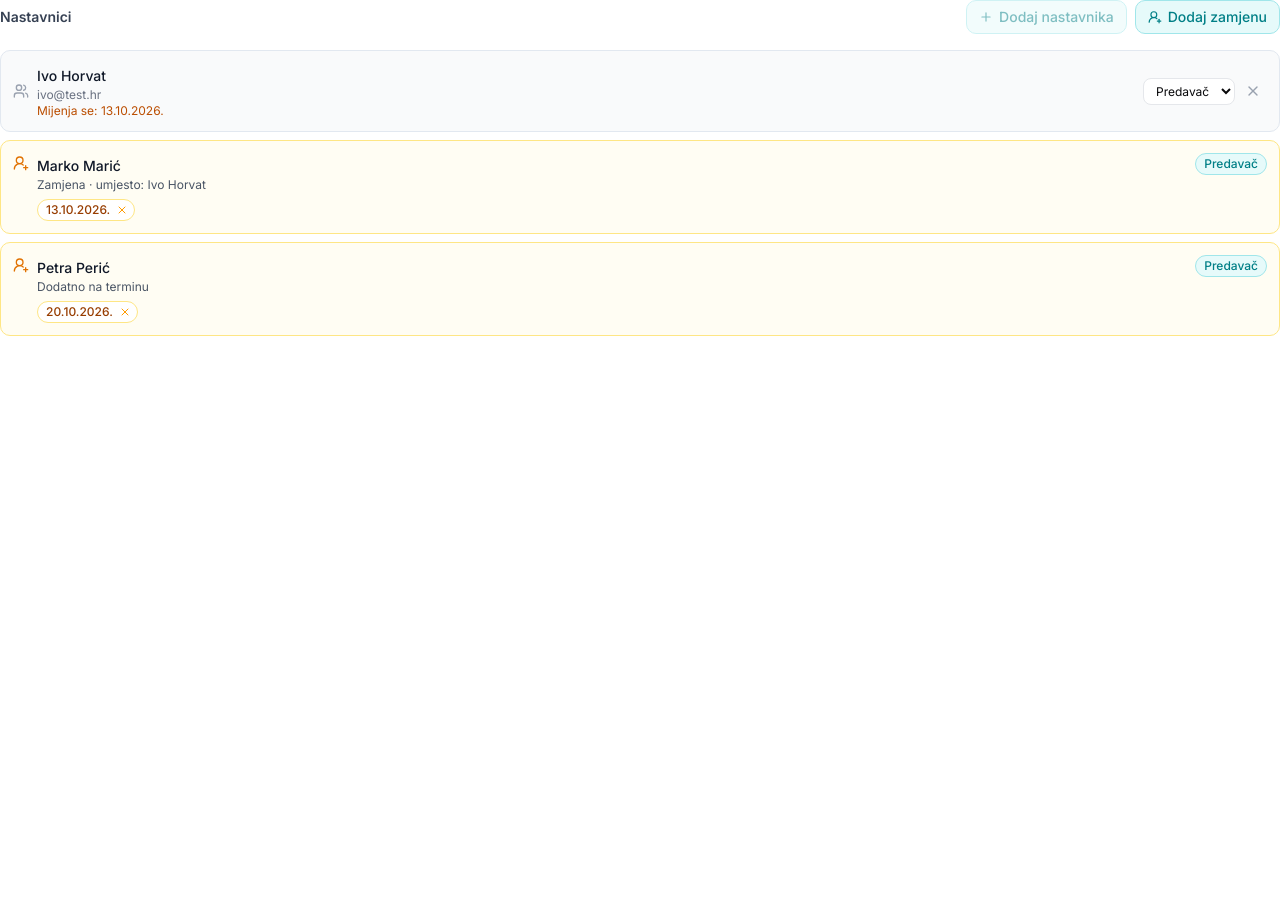
it: GroupTeachersPanel — Dodaj zamjenu termini › disables a date either person already has a change on, and names why
The width and height of the screenshot is (1280, 900).
Click the button "Dodaj zamjenu" at (1207, 17), box [1135,0,1279,34]
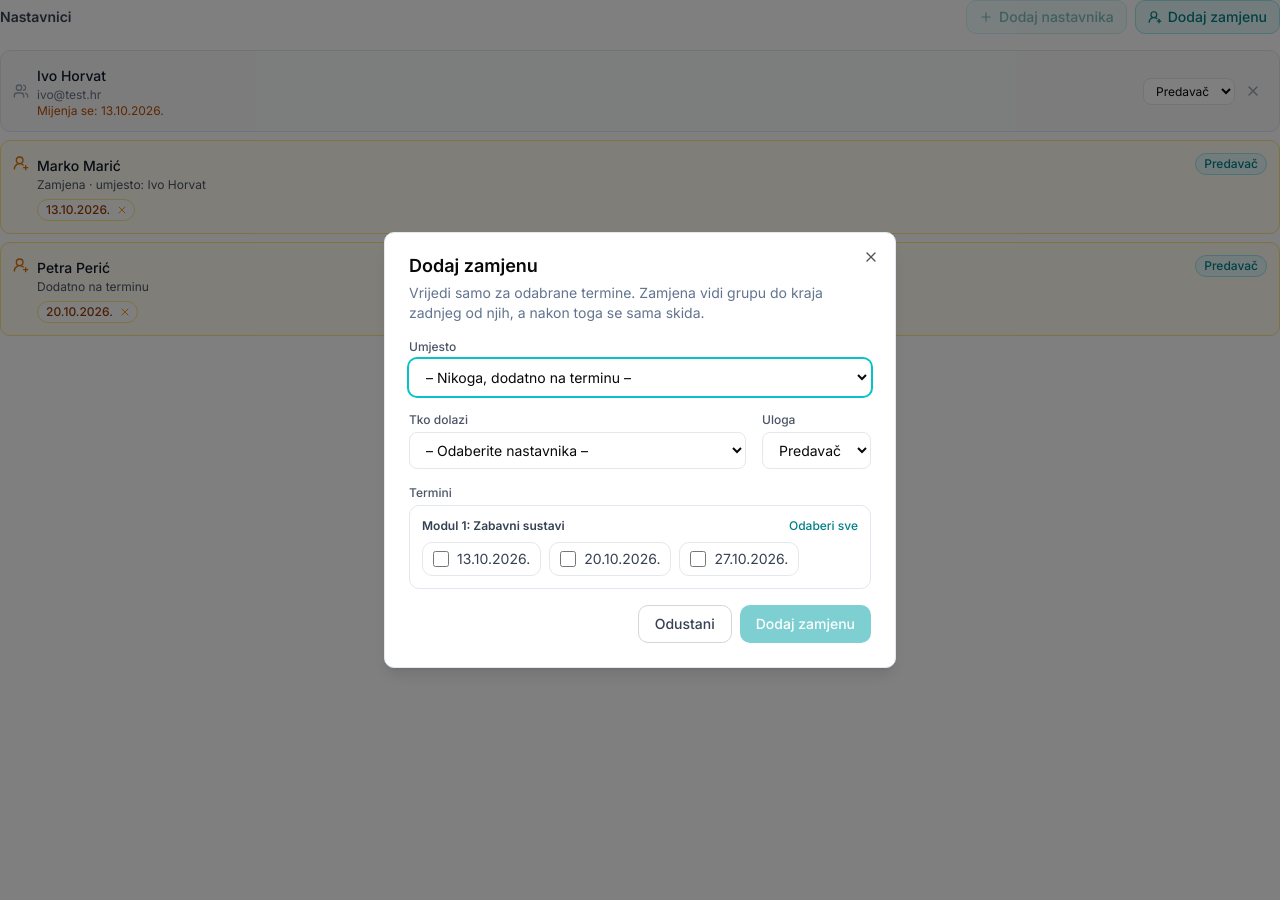
Now the text "Modul 1: Zabavni sustavi" is shown, box [422,518,565,534]
Select "Ivo Horvat (predavač)" in the dropdown labelled "Umjesto" at (640, 378), box [409,359,871,396]
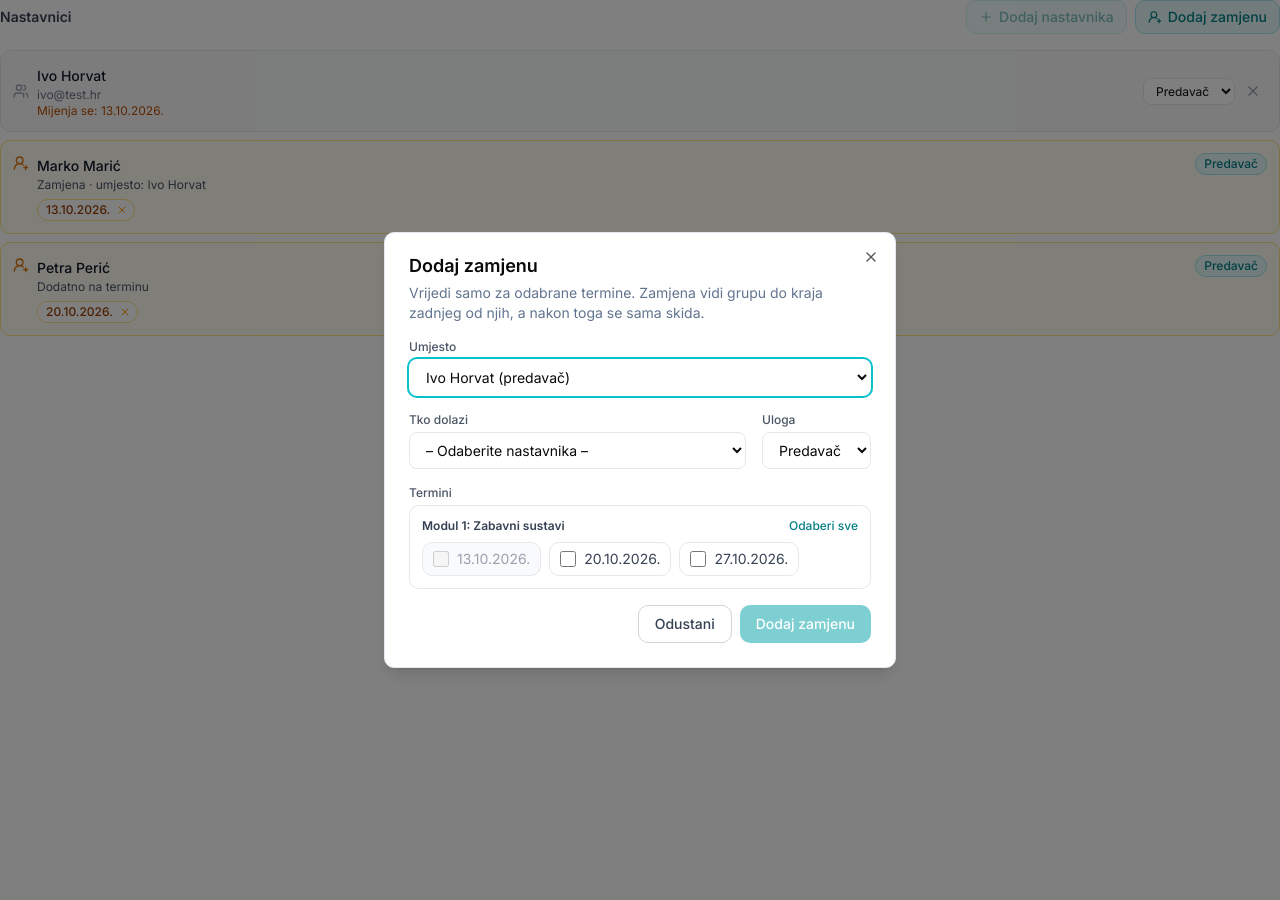
Select "Petra Perić" in the dropdown labelled "Tko dolazi" at (578, 450), box [409,432,746,469]
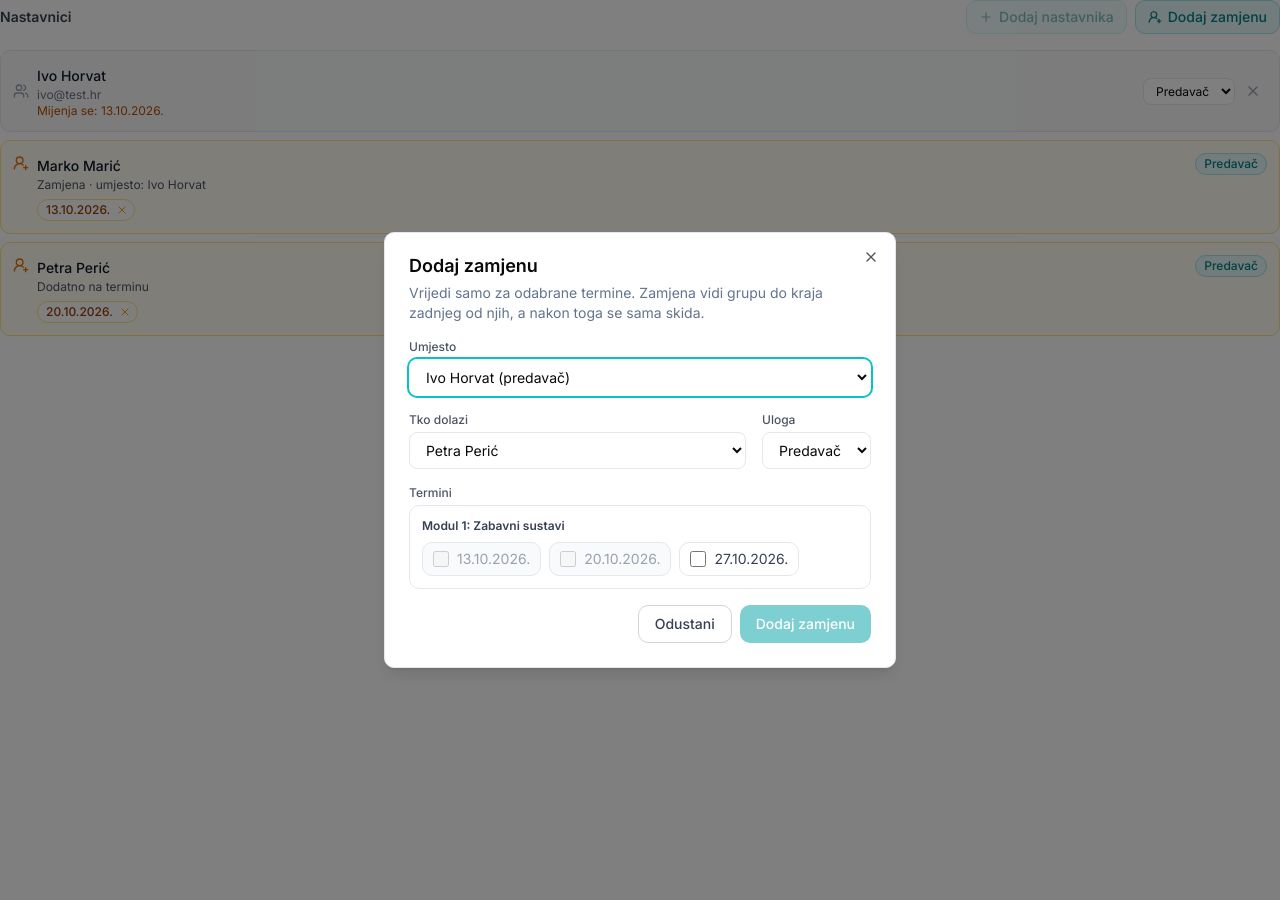
Now the checkbox labelled "13.10.2026." is disabled, box [433,551,449,567]
Now the checkbox labelled "27.10.2026." is enabled, box [690,551,706,567]
Now the checkbox labelled "20.10.2026." is disabled, box [560,551,576,567]
